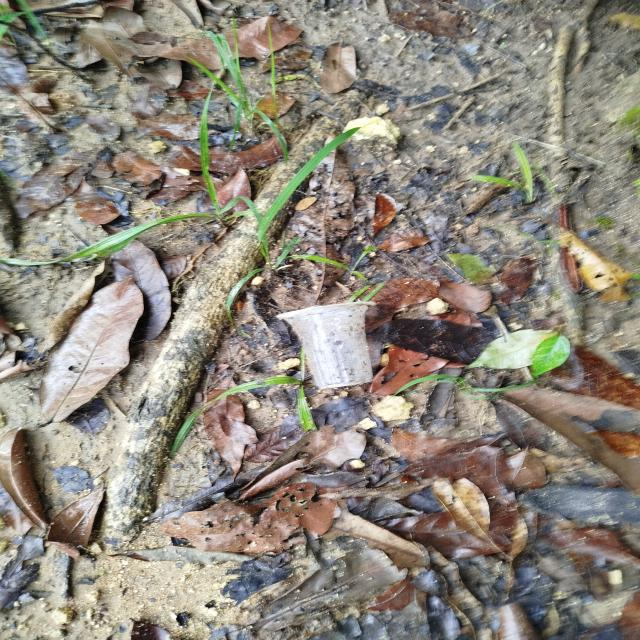plastic: (271, 295, 385, 399)
